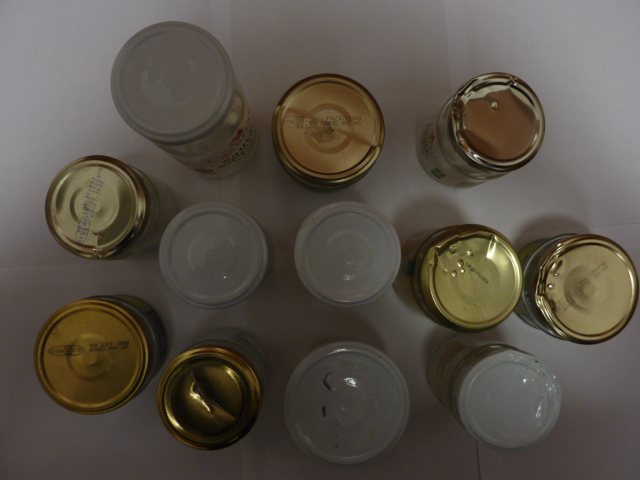damaged: (456, 348, 564, 452), (159, 348, 261, 451)
